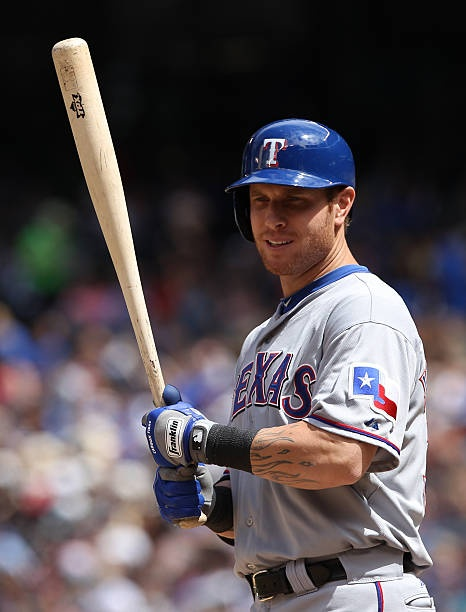bita: (49, 36, 202, 449)
